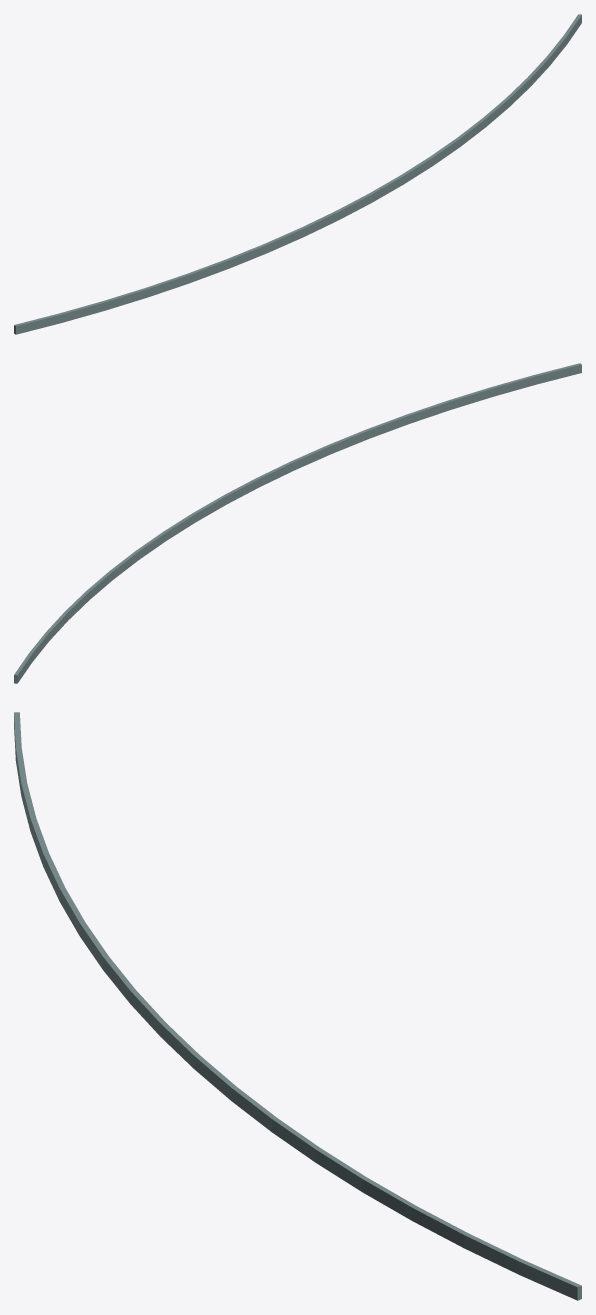
File: RoadPlan_WalkCurve_2L_A45_R36_Curb_-1.glb
3 renders of one model, top to bottom at view 1: azimuth 30°, elevation 25°; view 2: azimuth 210°, elevation 25°; view 3: azimuth 270°, elevation 25°, orthographic. The views are drawn at different scales.
Parts seen in each view (by area): view 1: RoadPlan_WalkCurve_2L_A45_R36_Curb_-1; view 2: RoadPlan_WalkCurve_2L_A45_R36_Curb_-1; view 3: RoadPlan_WalkCurve_2L_A45_R36_Curb_-1.
Boxes of the visible parts, <box> form: RoadPlan_WalkCurve_2L_A45_R36_Curb_-1: <box>14,14,581,334</box>; RoadPlan_WalkCurve_2L_A45_R36_Curb_-1: <box>14,363,581,683</box>; RoadPlan_WalkCurve_2L_A45_R36_Curb_-1: <box>14,712,581,1300</box>.
Bounding box in the file's own units: 27.66 × 0.3 × 11.54.
